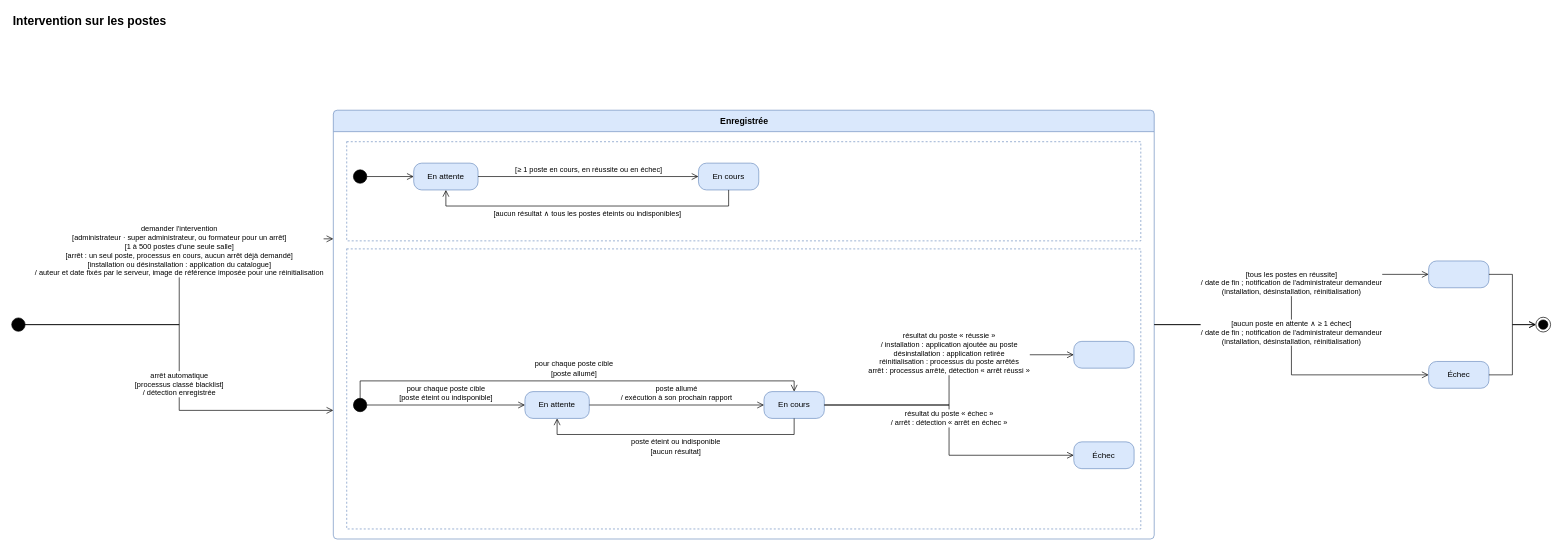
This 1562x551 diagram has some shape labels left out. Here are the shapes that lost their labels. From the top down, the centre of each, then its label:
the point at 1458,274: Terminée
the point at 1103,354: Réussie
